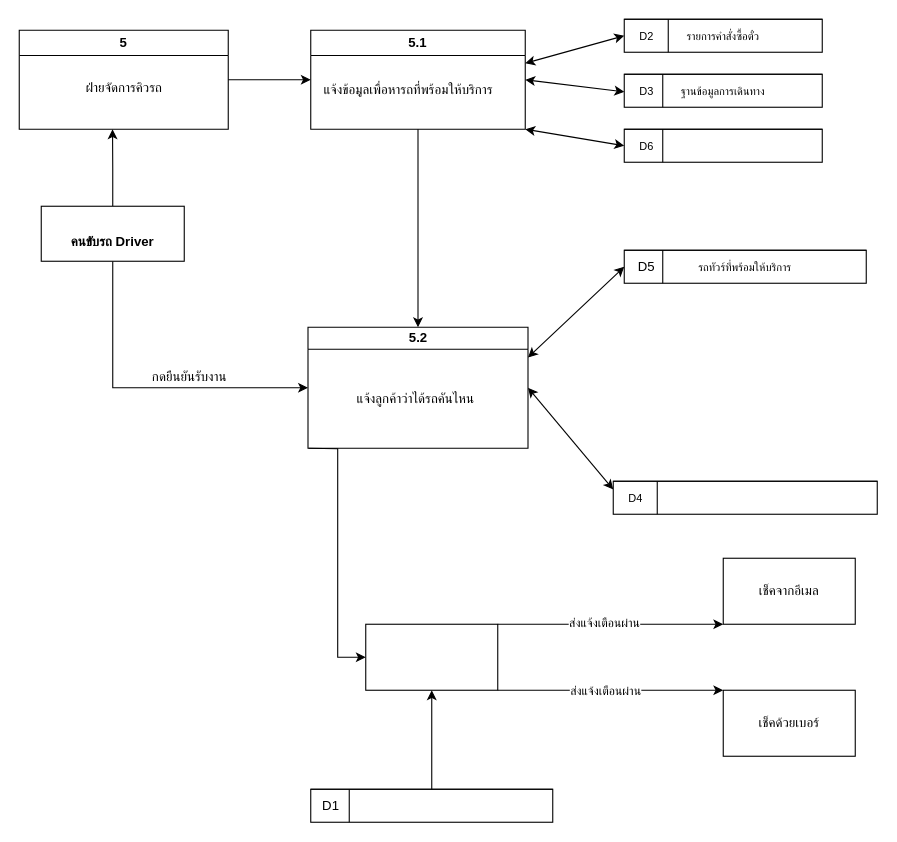
Image size: 897x842. Some labels were removed from this diagram. Each missing label, with the box of its shape:
การคำนวนระยะทางของการใช้บริการ: (612, 480, 877, 514)
ฐานข้อมูลของลูกค้า: (310, 788, 553, 822)
พื้นที่ที่พร้อมให้บริการ: (623, 128, 822, 162)
ลูกค้า: (365, 623, 498, 690)
